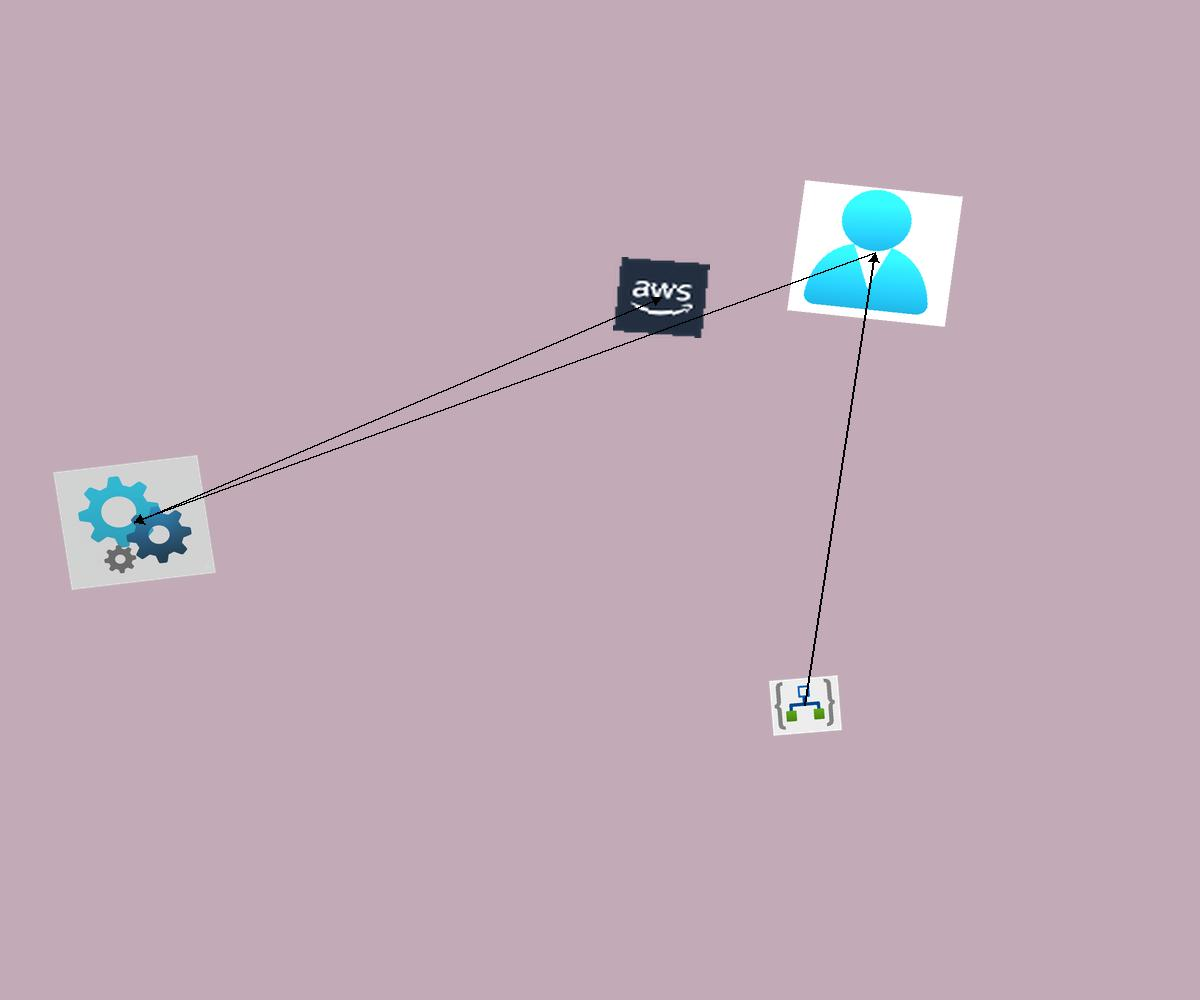AWS-Cloud-logo: (613, 257, 710, 338)
Azure_api: (53, 455, 216, 590)
Azure_integration-204-Logic-Apps: (769, 675, 842, 736)
Azure_users: (787, 180, 963, 327)
